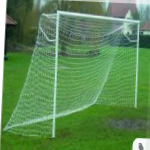goals: (6, 8, 142, 137)
